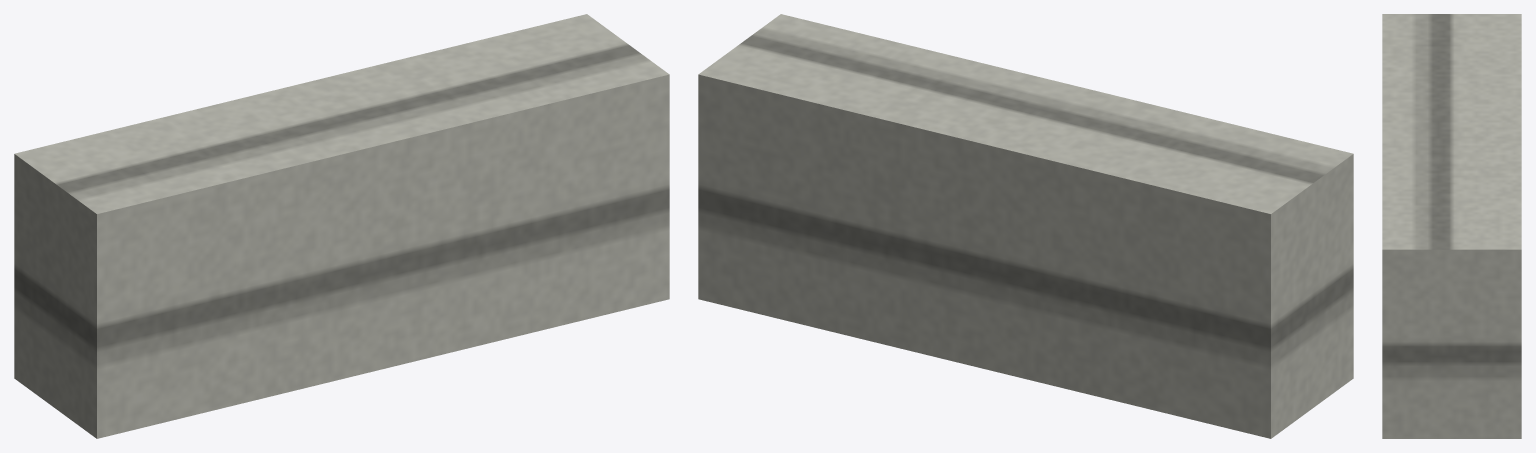
The model's file is hymnal_rack.glb.
3 views of the same model, side by side, from view 1: azimuth 30°, elevation 25°; view 2: azimuth 150°, elevation 25°; view 3: azimuth 270°, elevation 25° (orthographic). The views are drawn at different scales.
Visible parts, largest first — view 1: hymnal_rack-col; view 2: hymnal_rack-col; view 3: hymnal_rack-col.
Part boxes in pixels (x1,y1,x2,y2): hymnal_rack-col: [14, 14, 669, 438]; hymnal_rack-col: [698, 14, 1353, 438]; hymnal_rack-col: [1382, 14, 1521, 438].
Bounding box in the file's own units: 0.4 × 0.15 × 0.1.
1 material, 1 textured.
